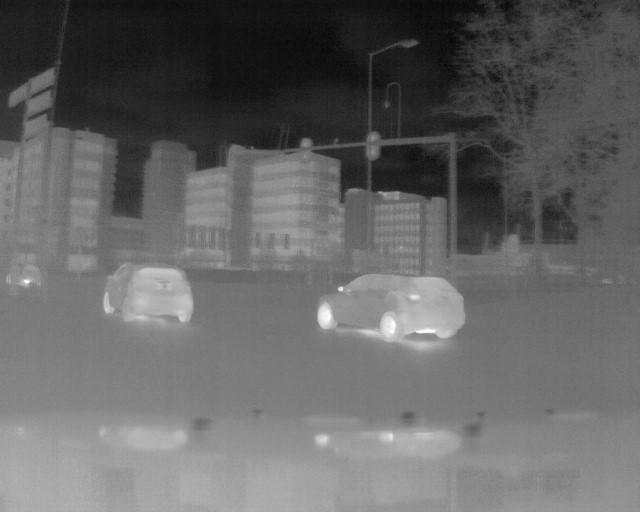car: (315, 267, 465, 339), (98, 260, 199, 326)
